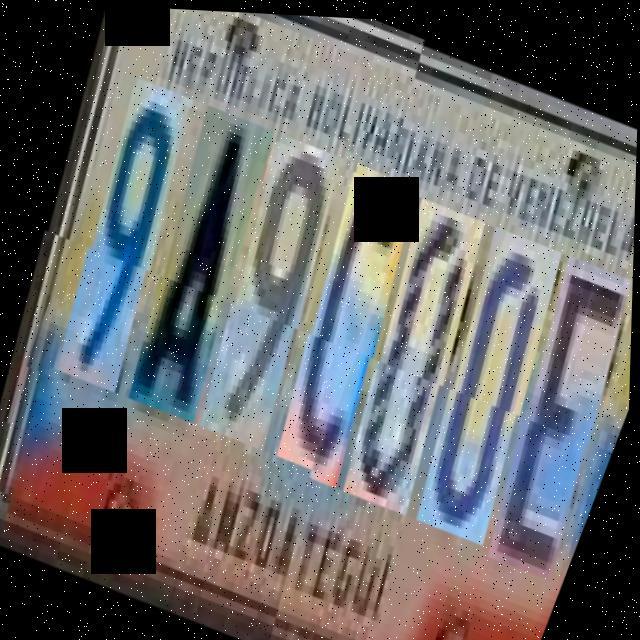0: (386, 216, 584, 542), (313, 188, 508, 512)
9: (169, 133, 365, 458), (26, 79, 214, 400)
A: (96, 105, 295, 432)
C: (247, 163, 437, 485)
E: (457, 244, 635, 577)
